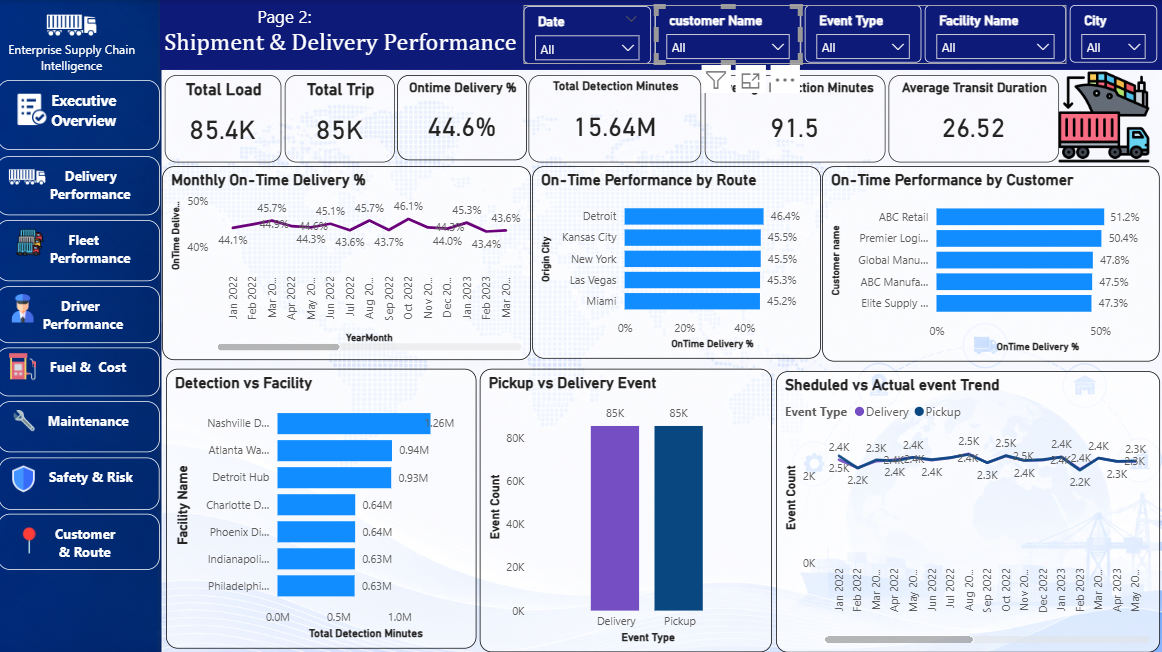

Layout of this report page (visuals, bound fields, positions):
{"tool":"powerbi","page":{"name":"Delivery Performance","canvas":[1280,720],"ordinal":1},"visuals":[{"type":"card","title":"Total Load","fields":{"Values":["All Measures.Total Loads"]},"box":[185.2,82.3,128,96.1],"z":0,"group":"g10"},{"type":"group","id":"g1","title":"Group 1","box":[0,171.9,179.8,64.5],"z":0},{"type":"lineChart","title":"Monthly On-Time Delivery %","fields":{"Y":["All Measures.OnTime Delivery %"],"Category":["Dim_Date.YearMonth"]},"box":[182,183,404.8,212.7],"z":0,"group":"g11"},{"type":"clusteredBarChart","title":"Detection vs Facility","fields":{"Y":["All Measures.Total Detention Minutes"],"Category":["Dimfacilities.facility_name"]},"box":[187.1,404.8,340.9,307.4],"z":0,"group":"g12"},{"type":"textbox","box":[2.7,502.6,177,57.6],"z":0,"group":"g4"},{"type":"image","box":[1.4,0,163.3,54.9],"z":1000,"group":"g3"},{"type":"card","title":"Total Trip","fields":{"Values":["All Measures.Total Trips"]},"box":[317.3,82.3,121.1,96.1],"z":1000,"group":"g10"},{"type":"group","id":"g2","title":"Group 3","box":[1.4,88.3,178.4,76.8],"z":1000},{"type":"clusteredBarChart","title":"On-Time Performance by Route","fields":{"Y":["All Measures.OnTime Delivery %"],"Category":["DimRoutes.origin_city"]},"box":[588.2,183,317,211.3],"z":1000,"group":"g11"},{"type":"clusteredColumnChart","title":"Pickup vs Delivery Event","fields":{"Category":["FactDeliveryEvents.event_type"],"Y":["All Measures.Event Count"]},"box":[531.5,404.8,321.1,311.5],"z":1000,"group":"g12"},{"type":"image","box":[10.9,510.8,38.4,30.2],"z":1000,"group":"g4"},{"type":"group","id":"g3","title":"Group 4","box":[1.4,0,163.3,87.8],"z":2000},{"type":"textbox","box":[1.4,40.3,163.3,47.6],"z":2000,"group":"g3"},{"type":"card","title":"Total Detection Minutes","fields":{"Values":["All Measures.Total Detention Minutes"]},"box":[584.3,82.3,189.9,96.1],"z":2000,"group":"g10"},{"type":"clusteredBarChart","title":"On-Time Performance by Customer","fields":{"Y":["All Measures.OnTime Delivery %"],"Category":["DimCustomers.customer_name"]},"box":[906.5,183,370.5,214.1],"z":2000,"group":"g11"},{"type":"card","title":"Average Detection Minutes","fields":{"Values":["All Measures.Average Detection Minutes"]},"box":[778.3,82.3,198.2,96.1],"z":3000,"group":"g10"},{"type":"group","id":"g4","title":"Group 7","box":[2.7,502.6,177,57.6],"z":3000},{"type":"textbox","box":[1.4,564.4,178.4,61.7],"z":3000,"group":"g6"},{"type":"card","title":"Average Transit Duration","fields":{"Values":["All Measures.Average Transit Duration"]},"box":[979.2,82.3,187.1,96.1],"z":4000,"group":"g10"},{"type":"group","id":"g5","title":"Group 8","box":[1.4,440.9,178.4,56.3],"z":4000},{"type":"textbox","box":[1.4,440.9,178.4,56.3],"z":4000,"group":"g5"},{"type":"card","title":"Ontime Delivery %","fields":{"Values":["All Measures.OnTime Delivery %"]},"box":[440.4,82.3,142.7,93.3],"z":5000,"group":"g10"},{"type":"textbox","box":[0,382,179.8,53.4],"z":5000,"group":"g7"},{"type":"group","id":"g6","title":"Group 9","box":[1.4,564.4,178.4,61.7],"z":5000},{"type":"textbox","box":[1.4,88.3,178.4,76.8],"z":6000,"group":"g2"},{"type":"textbox","box":[0,314.2,179.8,62.5],"z":6000,"group":"g9"},{"type":"group","id":"g7","title":"Group 10","box":[0,380.5,179.8,54.9],"z":6000},{"type":"group","id":"g8","title":"Group 11","box":[0,241.8,179.8,67.2],"z":7000},{"type":"group","id":"g9","title":"Group 12","box":[0,314.2,179.8,62.5],"z":8000},{"type":"textbox","box":[179.8,0,1100.5,76.8],"z":9000},{"type":"image","box":[1152.7,76.8,127.6,102.9],"z":10000},{"type":"textbox","box":[0,241.8,179.8,67.2],"z":10000,"group":"g8"},{"type":"group","id":"g10","title":"Group 2","box":[185.2,82.3,981.1,96.1],"z":11000},{"type":"group","id":"g11","title":"Group 6","box":[182,183,1095,214.1],"z":12000},{"type":"textbox","box":[0,171.9,179.8,64.5],"z":13000,"group":"g14"},{"type":"lineChart","title":"Sheduled vs Actual event Trend","fields":{"Y":["All Measures.Event Count"],"Series":["FactDeliveryEvents.event_type"],"Category":["Dim_Date.YearMonth"]},"box":[856.3,407.5,421.3,308.7],"z":13000},{"type":"image","box":[15.5,102.8,48.5,34.8],"z":13003,"group":"g2"},{"type":"image","box":[1.4,174.6,65.9,39.8],"z":13007,"group":"g14"},{"type":"group","id":"g12","title":"Group 13","box":[187.1,404.8,665.5,311.5],"z":14000},{"type":"slicer","fields":{"Values":["DimRoutes.origin_city"]},"box":[1178.7,5.5,96.1,63.1],"z":15000},{"type":"slicer","fields":{"Values":["Dim_Date.Date Hierarchy.Date","Dim_Date.Date Hierarchy.Year","Dim_Date.Date Hierarchy.Month Name"]},"box":[579.1,6.9,140,63.1],"z":15000,"group":"g13"},{"type":"group","id":"g13","title":"Group 14","box":[579.1,5,595.5,65],"z":16000},{"type":"slicer","fields":{"Values":["DimCustomers.customer_name"]},"box":[723.2,5.1,160.5,64.5],"z":16000,"group":"g13"},{"type":"slicer","fields":{"Values":["FactDeliveryEvents.event_type"]},"box":[887.8,5,127.6,63.1],"z":17000,"group":"g13"},{"type":"slicer","fields":{"Values":["Dimfacilities.facility_name"]},"box":[1019.6,5,155.1,63.1],"z":18000,"group":"g13"},{"type":"group","id":"g14","title":"Group 5","box":[0,171.9,179.8,64.5],"z":27001,"group":"g1"},{"type":"image","box":[13.7,450.5,34.3,23.3],"z":27002,"group":"g5"},{"type":"image","box":[13.7,315.6,31.6,45.3],"z":27006,"group":"g9"},{"type":"image","box":[2.7,251.4,68.6,30.2],"z":27007,"group":"g8"},{"type":"image","box":[20.6,579.3,32,29.2],"z":27008,"group":"g6"},{"type":"image","box":[12.7,380.5,33.3,44],"z":27010,"group":"g7"}]}

Visuals, with their boxes on the page's 1280x720 design canvas (x1, y1, x2, y2). These are canvas units, not pixel positions in the 1162x652 screenshot, which may show the page scaled, cropped or inside an application window:
"Total Load" card: <box>185,82,313,178</box>
"Group 1" group: <box>0,172,180,236</box>
"Monthly On-Time Delivery %" lineChart: <box>182,183,587,396</box>
"Detection vs Facility" clusteredBarChart: <box>187,405,528,712</box>
textbox: <box>3,503,180,560</box>
image: <box>1,0,165,55</box>
"Total Trip" card: <box>317,82,438,178</box>
"Group 3" group: <box>1,88,180,165</box>
"On-Time Performance by Route" clusteredBarChart: <box>588,183,905,394</box>
"Pickup vs Delivery Event" clusteredColumnChart: <box>532,405,853,716</box>
image: <box>11,511,49,541</box>
"Group 4" group: <box>1,0,165,88</box>
textbox: <box>1,40,165,88</box>
"Total Detection Minutes" card: <box>584,82,774,178</box>
"On-Time Performance by Customer" clusteredBarChart: <box>906,183,1277,397</box>
"Average Detection Minutes" card: <box>778,82,976,178</box>
"Group 7" group: <box>3,503,180,560</box>
textbox: <box>1,564,180,626</box>
"Average Transit Duration" card: <box>979,82,1166,178</box>
"Group 8" group: <box>1,441,180,497</box>
textbox: <box>1,441,180,497</box>
"Ontime Delivery %" card: <box>440,82,583,176</box>
textbox: <box>0,382,180,435</box>
"Group 9" group: <box>1,564,180,626</box>
textbox: <box>1,88,180,165</box>
textbox: <box>0,314,180,377</box>
"Group 10" group: <box>0,380,180,435</box>
"Group 11" group: <box>0,242,180,309</box>
"Group 12" group: <box>0,314,180,377</box>
textbox: <box>180,0,1280,77</box>
image: <box>1153,77,1280,180</box>
textbox: <box>0,242,180,309</box>
"Group 2" group: <box>185,82,1166,178</box>
"Group 6" group: <box>182,183,1277,397</box>
textbox: <box>0,172,180,236</box>
"Sheduled vs Actual event Trend" lineChart: <box>856,408,1278,716</box>
image: <box>16,103,64,138</box>
image: <box>1,175,67,214</box>
"Group 13" group: <box>187,405,853,716</box>
slicer - DimRoutes.origin_city: <box>1179,6,1275,69</box>
slicer - Dim_Date.Date Hierarchy.Date x Dim_Date.Date Hierarchy.Year: <box>579,7,719,70</box>
"Group 14" group: <box>579,5,1175,70</box>
slicer - DimCustomers.customer_name: <box>723,5,884,70</box>
slicer - FactDeliveryEvents.event_type: <box>888,5,1015,68</box>
slicer - Dimfacilities.facility_name: <box>1020,5,1175,68</box>
"Group 5" group: <box>0,172,180,236</box>
image: <box>14,450,48,474</box>
image: <box>14,316,45,361</box>
image: <box>3,251,71,282</box>
image: <box>21,579,53,608</box>
image: <box>13,380,46,424</box>
